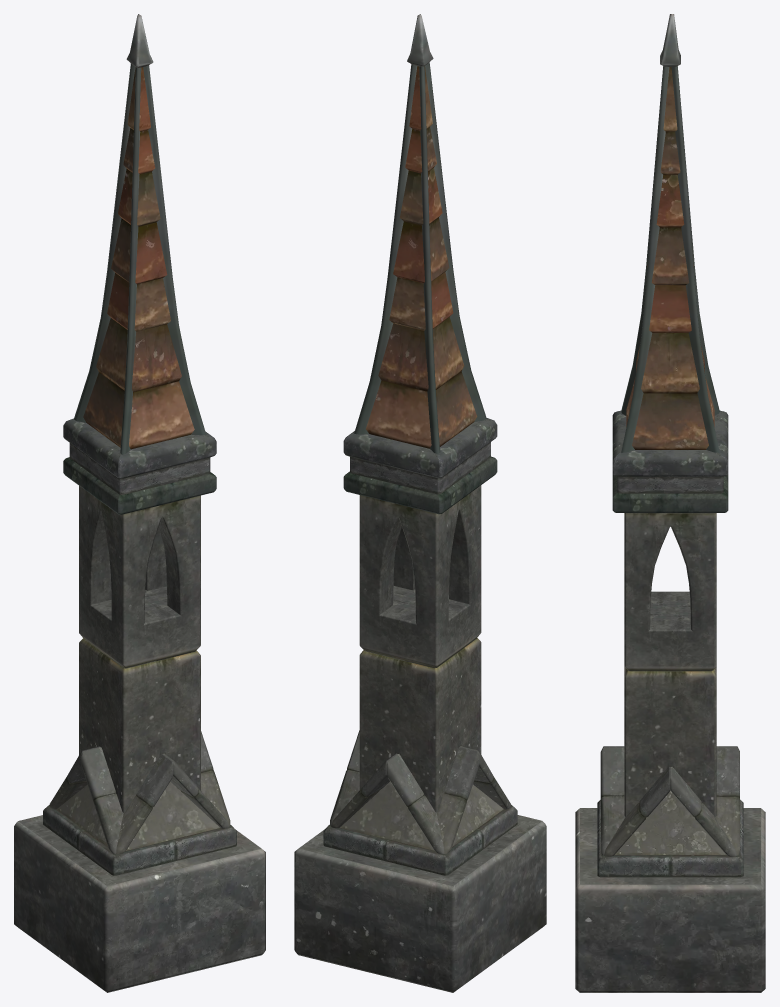
The picture shows the model from 3 angles, left to right: view 1: azimuth 30°, elevation 25°; view 2: azimuth 150°, elevation 25°; view 3: azimuth 270°, elevation 25°; orthographic projection.
Parts seen in each view (by area): view 1: SM_DeathTemple_Spire_04v1_LOD0; view 2: SM_DeathTemple_Spire_04v1_LOD0; view 3: SM_DeathTemple_Spire_04v1_LOD0.
Part boxes in pixels (left/top/right/bottom): SM_DeathTemple_Spire_04v1_LOD0: left=14, top=14, right=265, bottom=992; SM_DeathTemple_Spire_04v1_LOD0: left=294, top=14, right=546, bottom=992; SM_DeathTemple_Spire_04v1_LOD0: left=575, top=14, right=765, bottom=992.
Bounding box in the file's own units: 1.43 × 7.82 × 1.43.
Materials: 4 (4 with a texture image).
